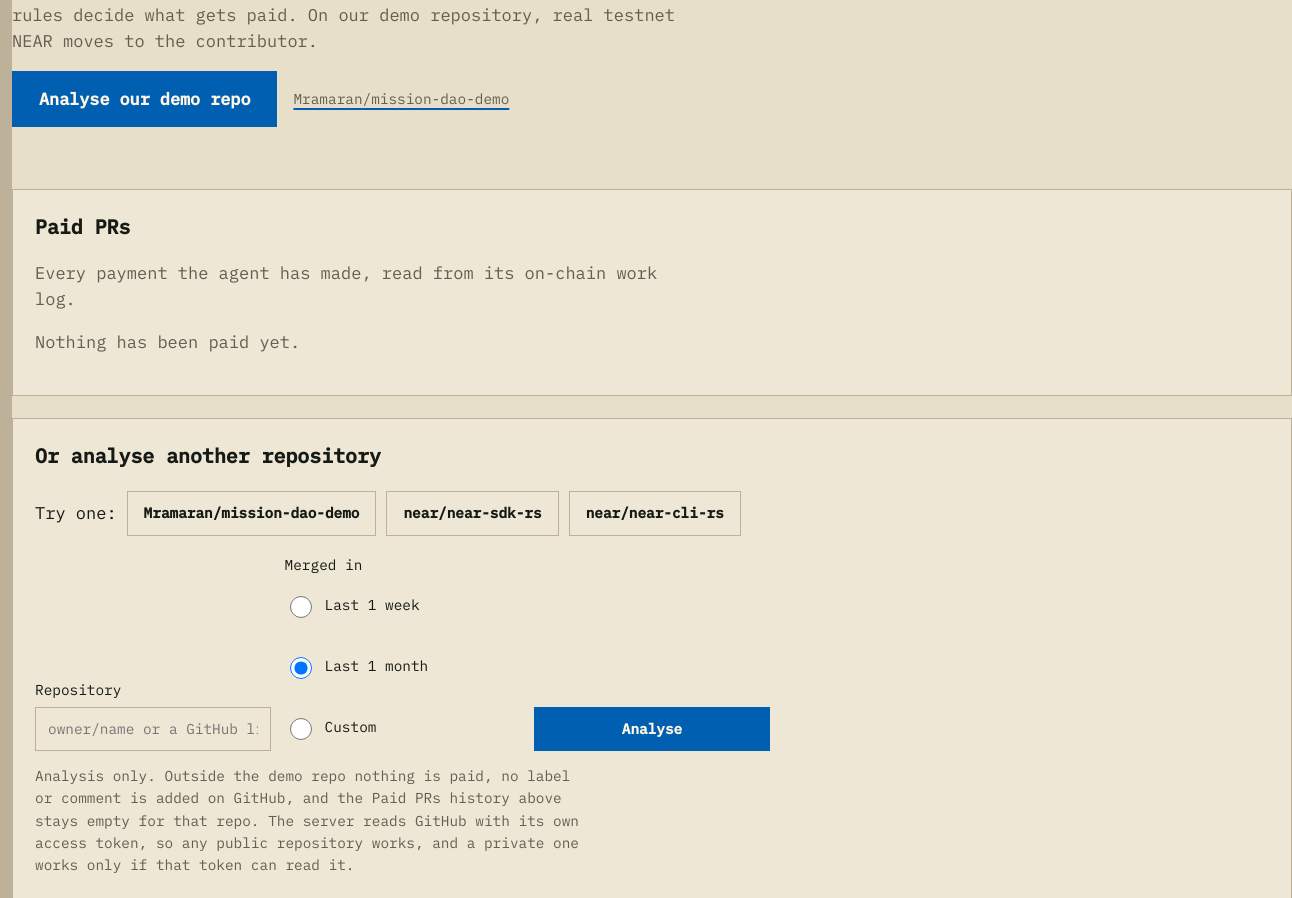
Scenario: AnalyseRepo › shows the server error message for a 502
The image size is (1292, 898).
(page scrolled)
Type "o/r" into the field labelled "Repository". click: (153,729)
box: x1=35 y1=707 x2=271 y2=751
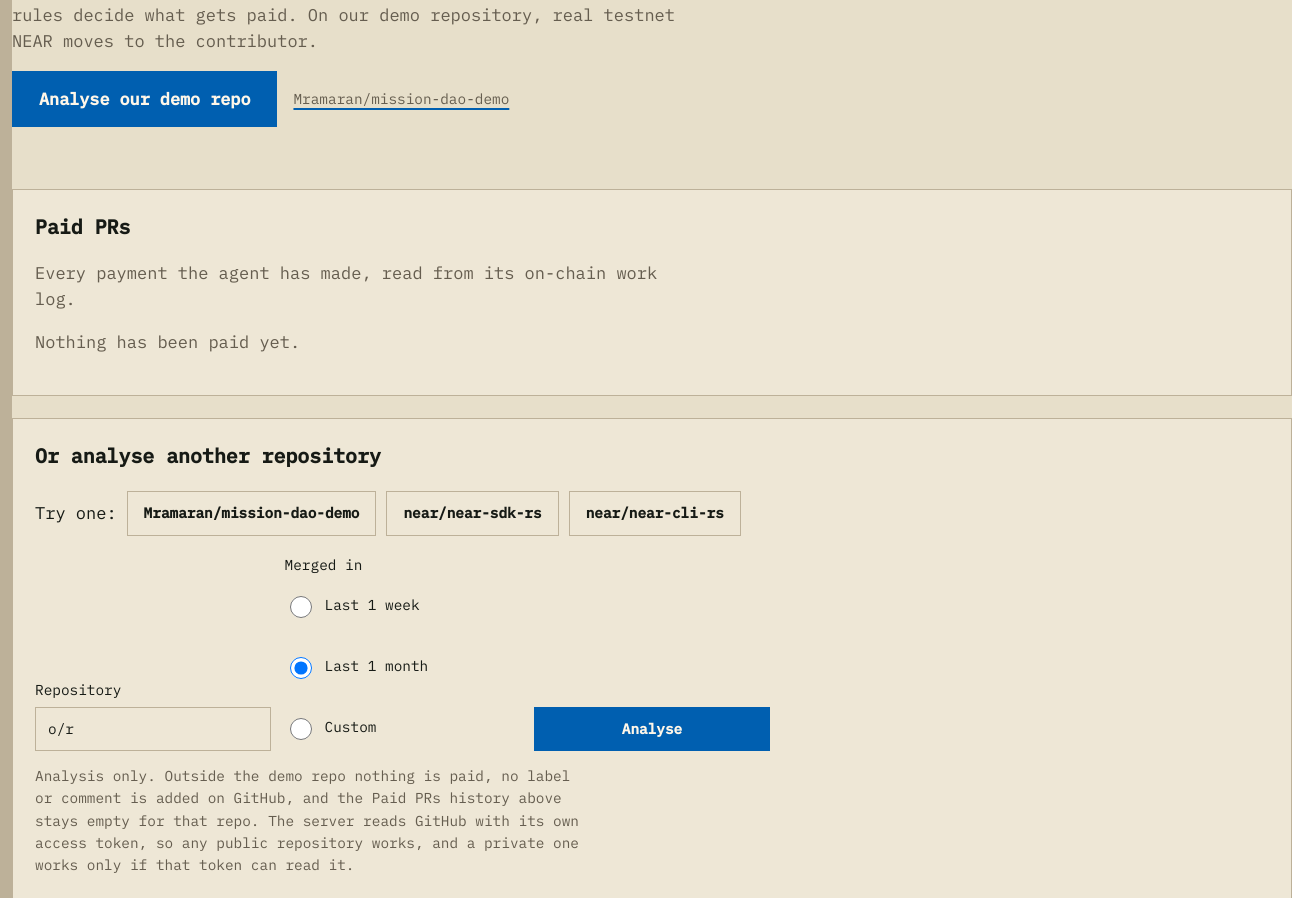
Click the button "Analyse". click: (652,729)
box: x1=534 y1=707 x2=770 y2=751
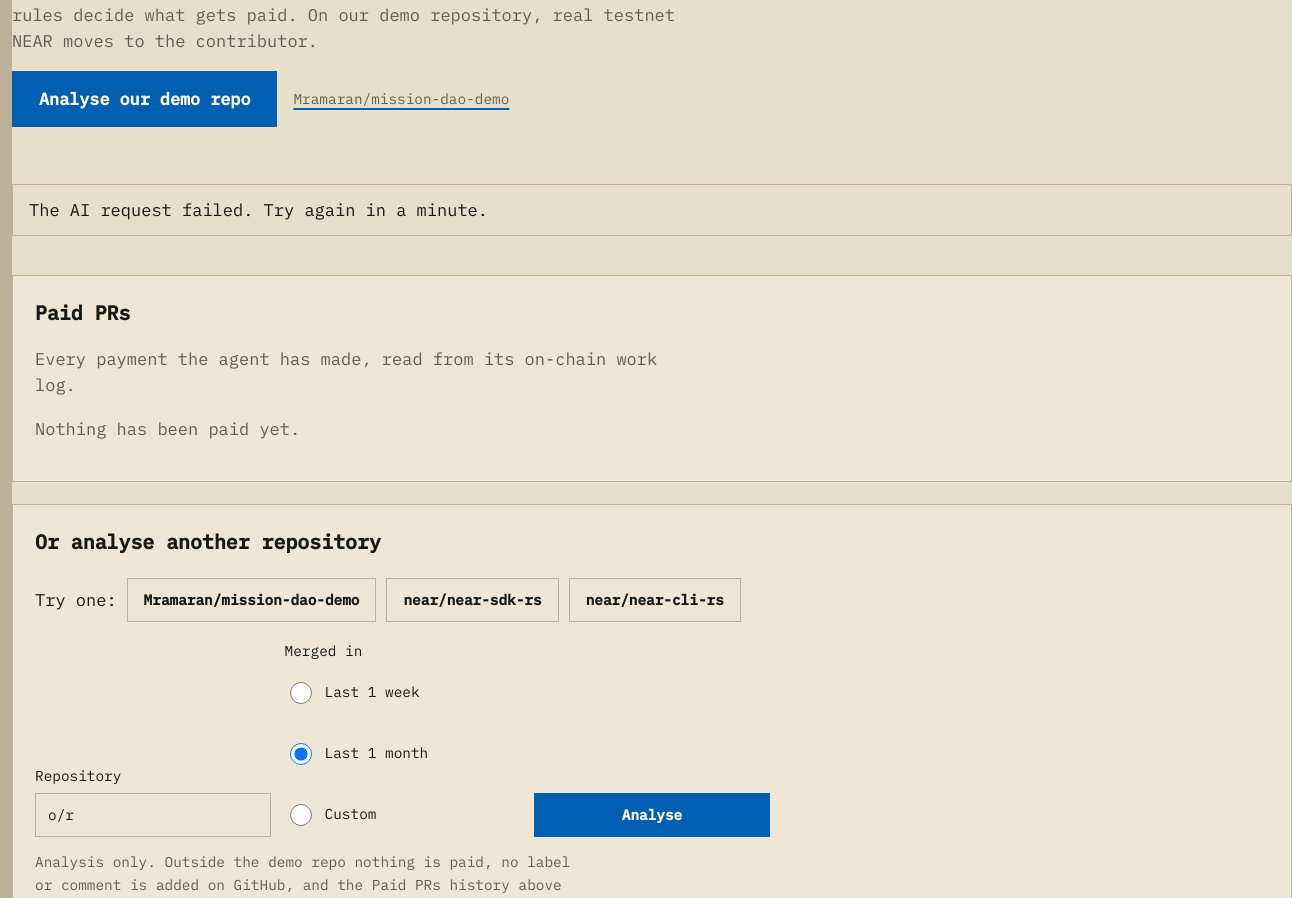
Expected: the message reads "The AI request failed. Try again in a minute.", x1=29 y1=199 x2=488 y2=221
